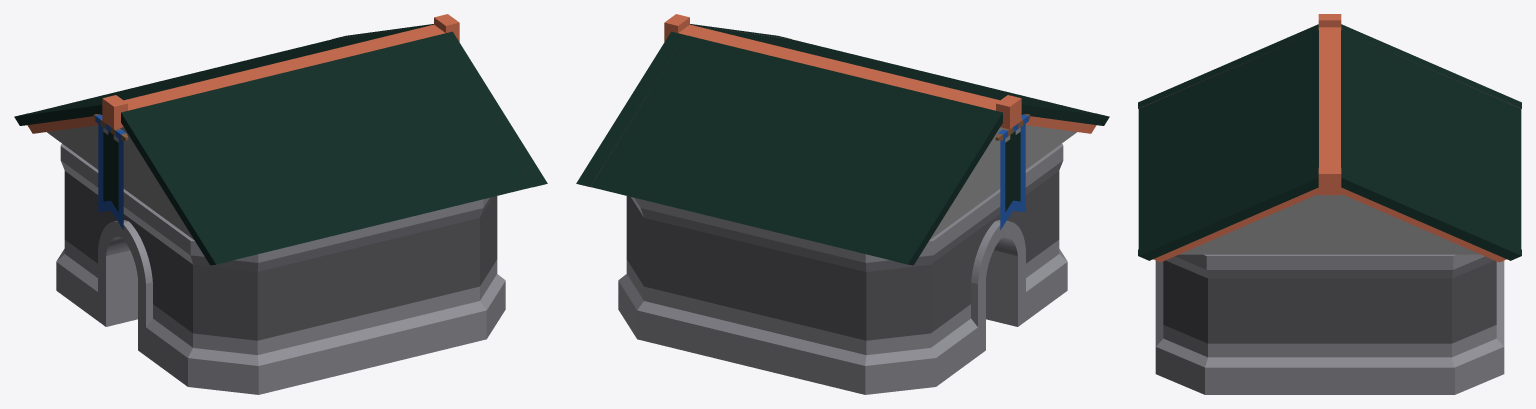
The model's file is KleinesHaus1.fbx.
The picture shows the model from 3 angles, left to right: view 1: azimuth 30°, elevation 25°; view 2: azimuth 150°, elevation 25°; view 3: azimuth 270°, elevation 25°; orthographic projection. The views are drawn at different scales.
Visible parts, largest first — view 1: mergedBlocks; view 2: mergedBlocks; view 3: mergedBlocks.
Part boxes in pixels (box(x1,y1,x2,y2)): mergedBlocks: box(14, 14, 547, 394); mergedBlocks: box(576, 14, 1109, 394); mergedBlocks: box(1138, 14, 1521, 394).
Size of the model in its own units: 250 by 166 by 253.
